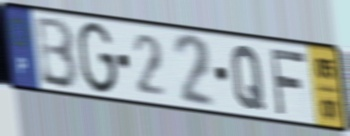2: (171, 32, 219, 111), (132, 32, 168, 100)
B: (35, 14, 81, 92)
F: (267, 46, 308, 118)
G: (76, 19, 119, 97)
Q: (229, 43, 267, 113)
